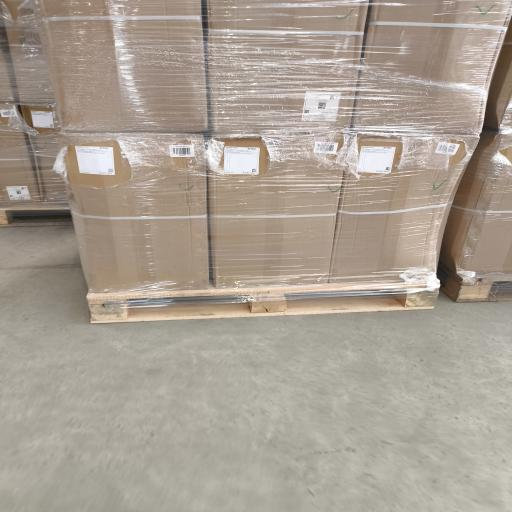pallet: (88, 283, 438, 323), (439, 265, 511, 302), (0, 204, 72, 227)
